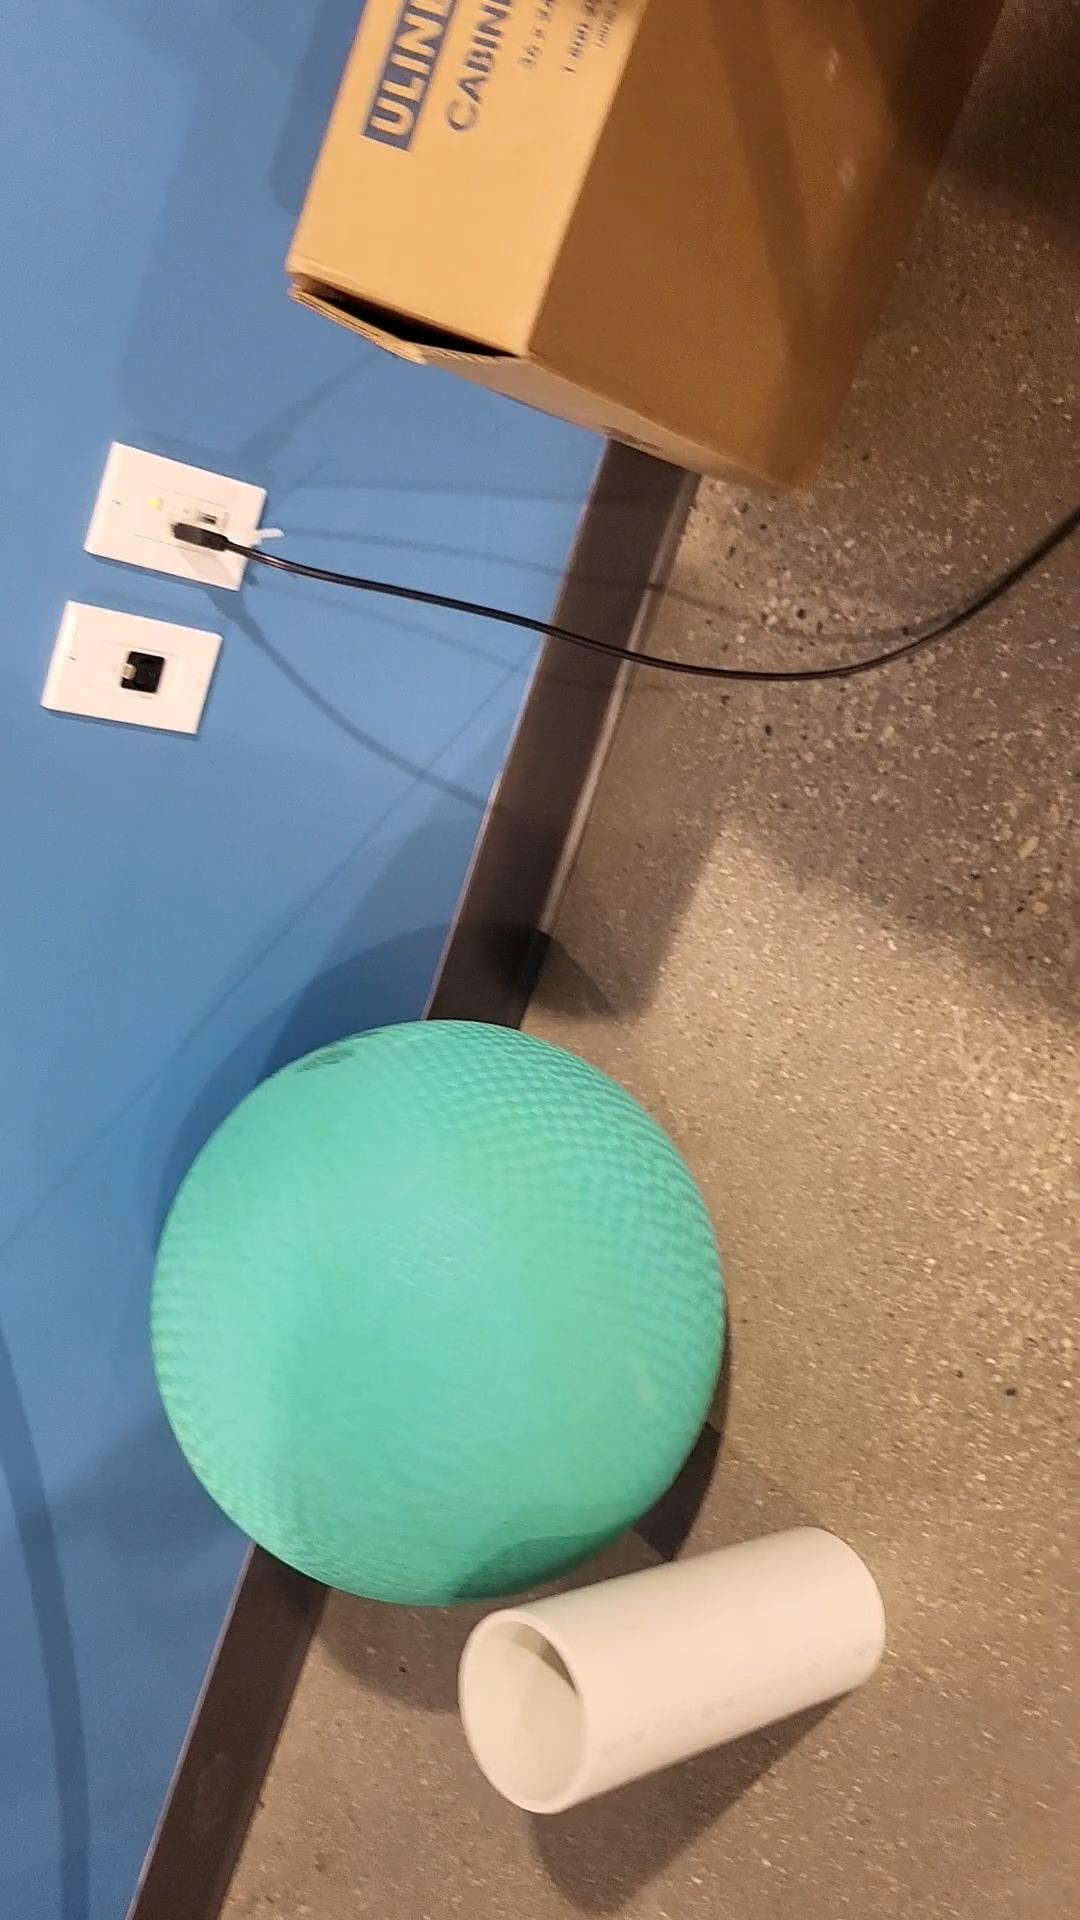algae: (157, 1019, 728, 1605)
coral: (459, 1523, 884, 1816)
